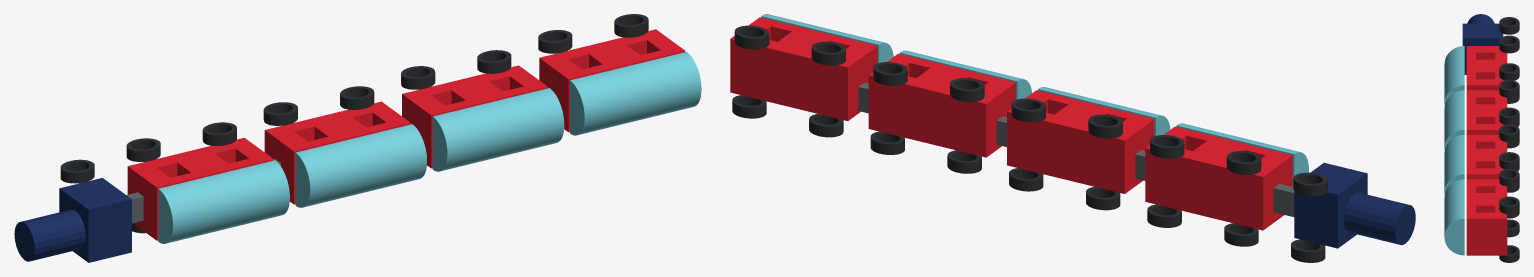
File: tinker.obj
3 renders of one model, left to right at view 1: azimuth 30°, elevation 25°; view 2: azimuth 150°, elevation 25°; view 3: azimuth 270°, elevation 25°, orthographic. The views are drawn at different scales.
Parts seen in each view (by area): view 1: group_0_7720667, group_0_15277357, group_0_1650274, group_0_2829873; view 2: group_0_15277357, group_0_2829873, group_0_1650274, group_0_7720667, group_0_6383466; view 3: group_0_15277357, group_0_7720667, group_0_2829873, group_0_1650274.
Part boxes in pixels (bbox=[...]): group_0_7720667: bbox=[158, 52, 701, 243]; group_0_15277357: bbox=[127, 29, 685, 240]; group_0_1650274: bbox=[14, 178, 131, 262]; group_0_2829873: bbox=[60, 14, 648, 233]; group_0_15277357: bbox=[730, 17, 1292, 230]; group_0_2829873: bbox=[732, 25, 1327, 262]; group_0_1650274: bbox=[1294, 162, 1415, 248]; group_0_7720667: bbox=[761, 14, 1308, 186]; group_0_6383466: bbox=[858, 82, 1294, 216]; group_0_15277357: bbox=[1466, 46, 1507, 255]; group_0_7720667: bbox=[1444, 46, 1464, 255]; group_0_2829873: bbox=[1499, 17, 1519, 262]; group_0_1650274: bbox=[1462, 14, 1503, 74].
Bounding box in the file's own units: 256 × 34 × 37.
